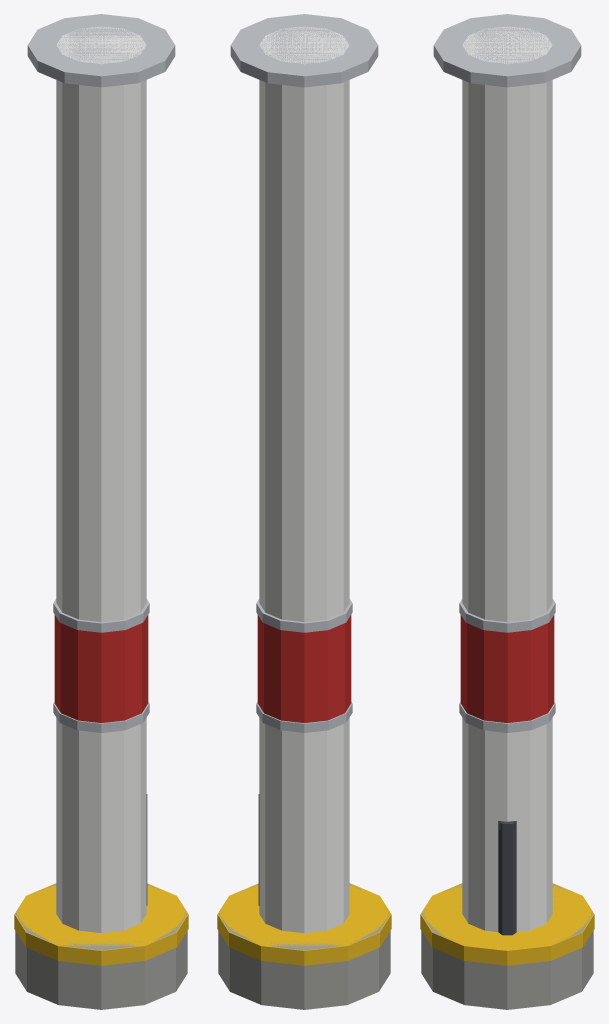
File: Canopy_Column_Round.glb
The picture shows the model from 3 angles, left to right: view 1: azimuth 30°, elevation 25°; view 2: azimuth 150°, elevation 25°; view 3: azimuth 270°, elevation 25°; orthographic projection.
Visible parts, largest first — view 1: Canopy_Column_Round; view 2: Canopy_Column_Round; view 3: Canopy_Column_Round.
Boxes of the visible parts, left/top/right/bottom form: Canopy_Column_Round: left=14, top=14, right=188, bottom=1009; Canopy_Column_Round: left=217, top=14, right=391, bottom=1009; Canopy_Column_Round: left=420, top=14, right=594, bottom=1009.
Bounding box in the file's own units: 0.85 × 5 × 0.85.
1 material, 1 textured.
